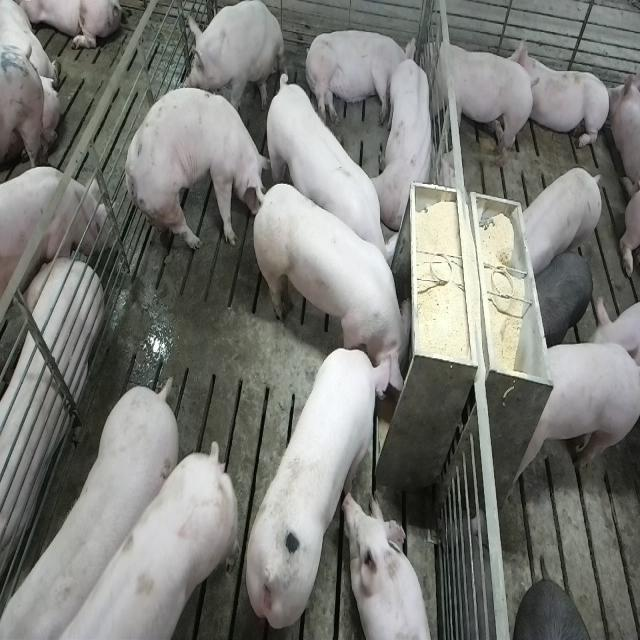Feeding: (244, 342, 397, 631), (256, 176, 420, 391)
Lateral_lying: (0, 248, 102, 616), (303, 28, 415, 127)
Sitting: (185, 0, 284, 114)
Standing: (0, 379, 176, 640), (262, 70, 394, 282), (124, 82, 270, 251), (506, 343, 638, 499), (422, 30, 535, 172), (0, 168, 105, 304), (517, 167, 604, 277), (532, 246, 594, 344)
Sternal_lying: (346, 491, 435, 640), (375, 51, 437, 232), (518, 35, 612, 154)
